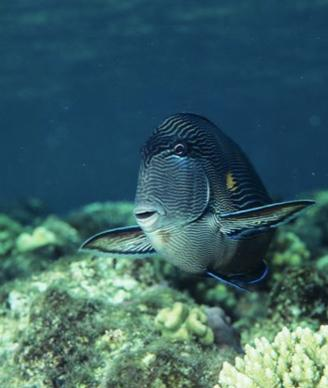Acanthuridae -Surgeonfishes-: (78, 111, 319, 293)
